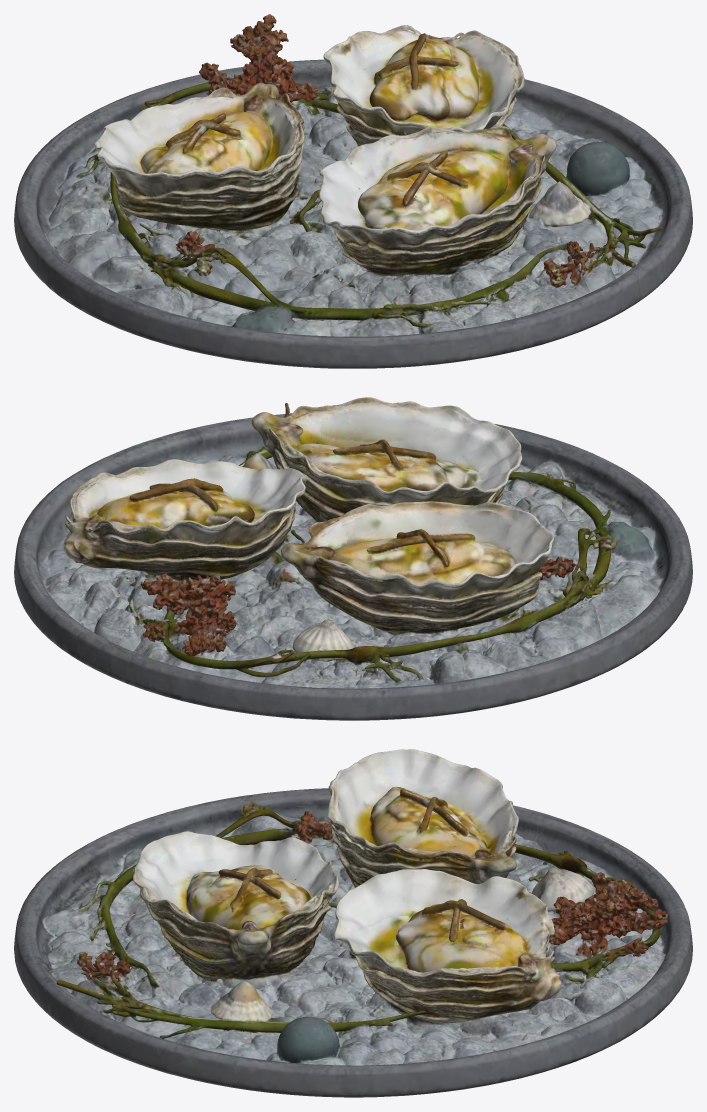
File: huitres.glb
3 renders of one model, top to bottom at view 1: azimuth 30°, elevation 25°; view 2: azimuth 150°, elevation 25°; view 3: azimuth 270°, elevation 25°, orthographic.
Size of the model in its own units: 1.9 by 0.4817 by 1.9.
1 material, 1 textured.
